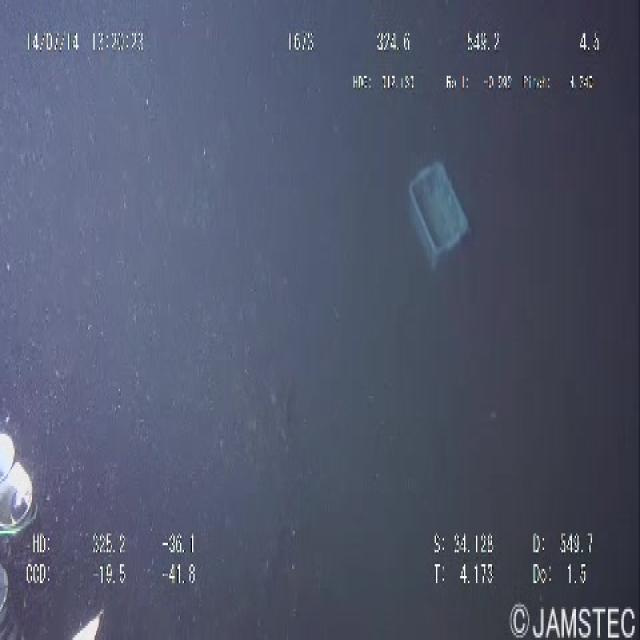plastic: (387, 121, 477, 280)
